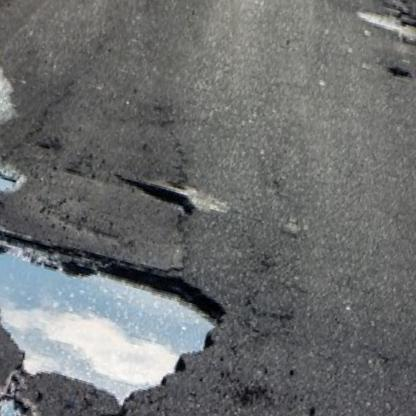pothole: (0, 193, 236, 416), (109, 169, 200, 216), (384, 63, 414, 83)
